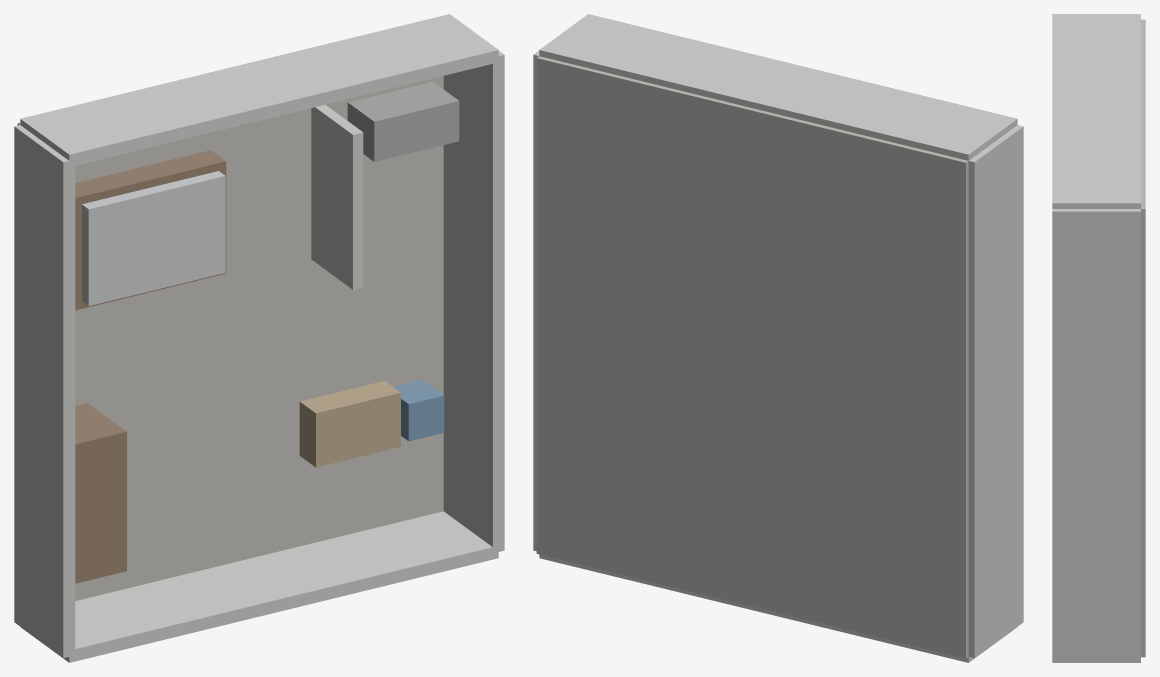
The model's file is sample_6_compact.glb.
3 renders of one model, left to right at view 1: azimuth 30°, elevation 25°; view 2: azimuth 150°, elevation 25°; view 3: azimuth 270°, elevation 25°, orthographic. The views are drawn at different scales.
Parts seen in each view (by area): view 1: floor, wall_west, wall_east, wall_north, wall_south, mattress, bath_partition, wardrobe, folding_table, vanity, sleeping_platform, chair; view 2: floor, wall_west, wall_north, wall_east, wall_south; view 3: wall_east, wall_north, floor, wall_south.
Boxes of the visible parts, bbox=[...] form: floor: bbox=[17, 76, 443, 600]; wall_west: bbox=[14, 125, 75, 657]; wall_east: bbox=[443, 50, 504, 552]; wall_north: bbox=[20, 14, 498, 166]; wall_south: bbox=[20, 511, 498, 662]; mattress: bbox=[82, 171, 225, 305]; bath_partition: bbox=[311, 104, 363, 289]; wardrobe: bbox=[75, 403, 126, 583]; folding_table: bbox=[299, 381, 400, 467]; vanity: bbox=[347, 81, 459, 161]; sleeping_platform: bbox=[75, 150, 226, 310]; chair: bbox=[394, 380, 444, 441]; floor: bbox=[536, 56, 968, 658]; wall_west: bbox=[968, 125, 1023, 657]; wall_north: bbox=[539, 14, 1017, 160]; wall_east: bbox=[533, 50, 539, 551]; wall_south: bbox=[539, 554, 1017, 662]; wall_east: bbox=[1052, 209, 1140, 659]; wall_north: bbox=[1052, 14, 1140, 208]; floor: bbox=[1141, 19, 1145, 657]; wall_south: bbox=[1052, 660, 1140, 662].
Size of the model in its own units: 5.96 by 6.56 by 1.21.
